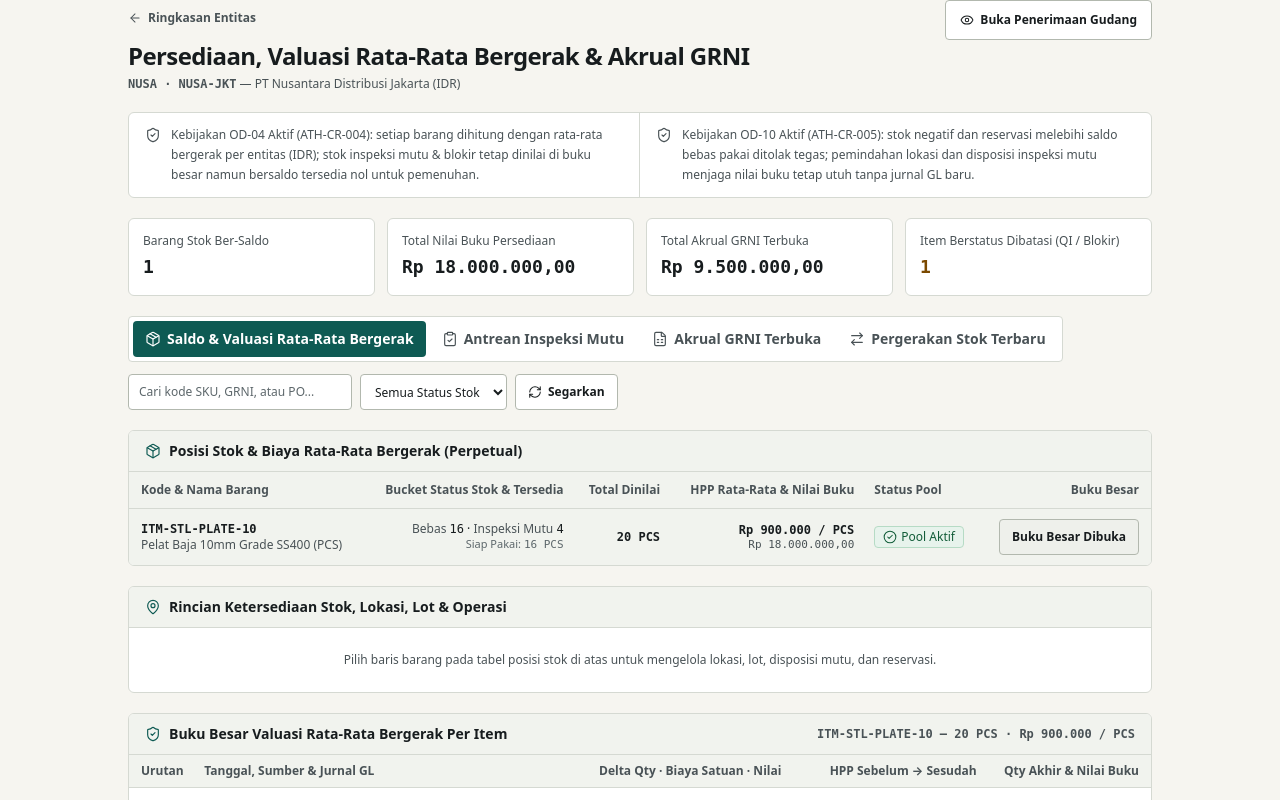
Scenario: S07 Gate 2 Valued Acceptance & Inventory Valuation UI › renders perpetual inventory positions, sequential moving-average ledger, GRNI accruals and movements
The image size is (1280, 800).
Expected: the element with test id "inv-kpi-carrying" shows "18.000.000", [402,256,575,277]
Expected: the element with test id "inv-kpi-grni" shows "9.500.000", [661,256,824,277]
What coordinates should you click on to do the following:
click the tab with id "inv-tab-accruals"
I would click on:
 (737, 339)
Its box is [640,321,833,357].
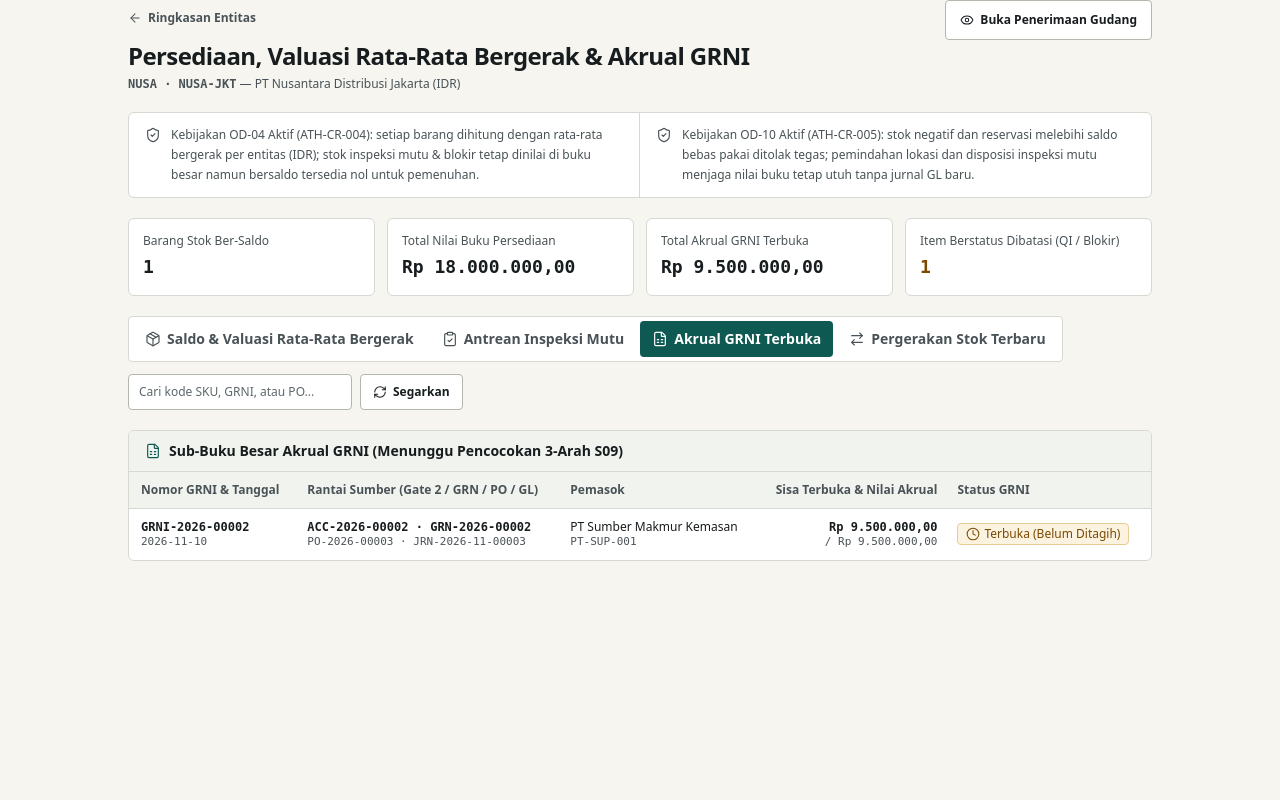
Expected: the text "GRNI-2026-00002" is shown, [141,520,249,534]
What coordinates should you click on to do the following:
click the tab with id "inv-tab-movements"
I would click on:
 (947, 339)
Its box is [837,321,1058,357].
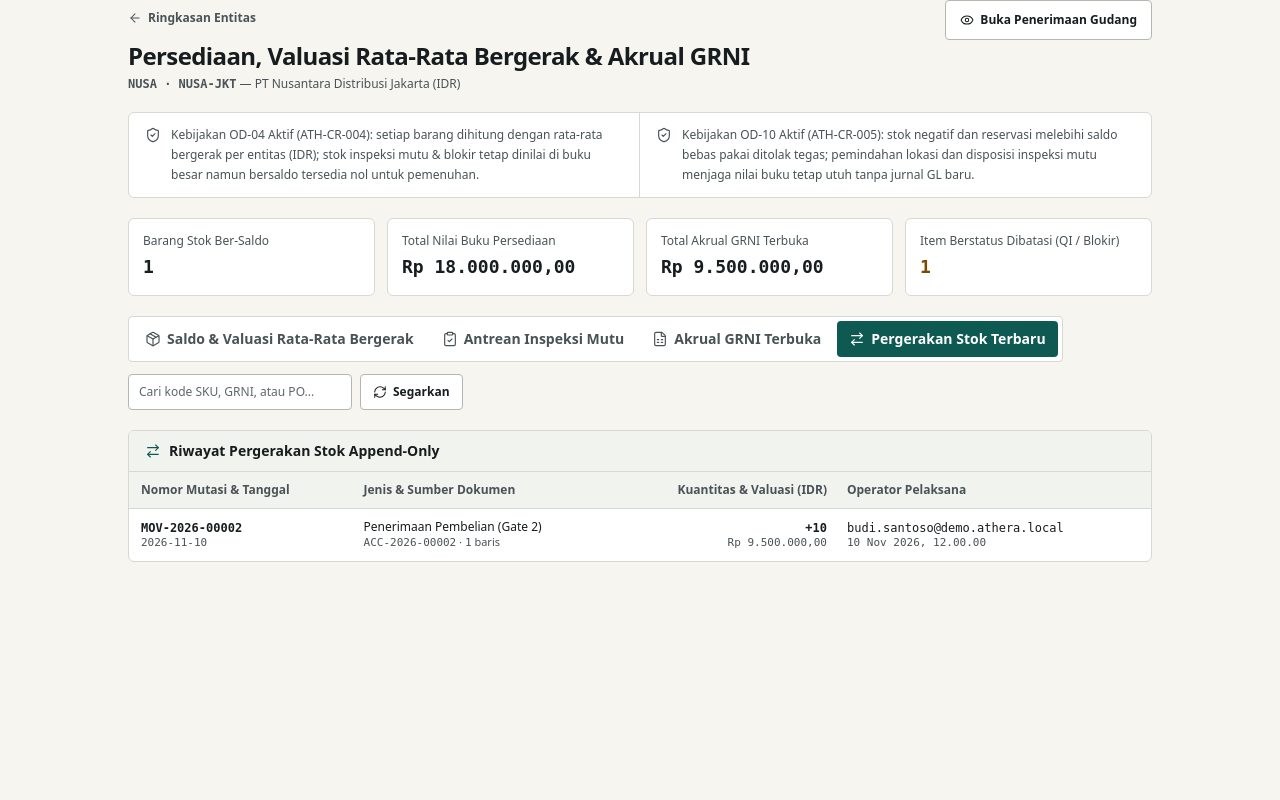
Expected: the text "MOV-2026-00002" is shown, [141,520,242,534]
